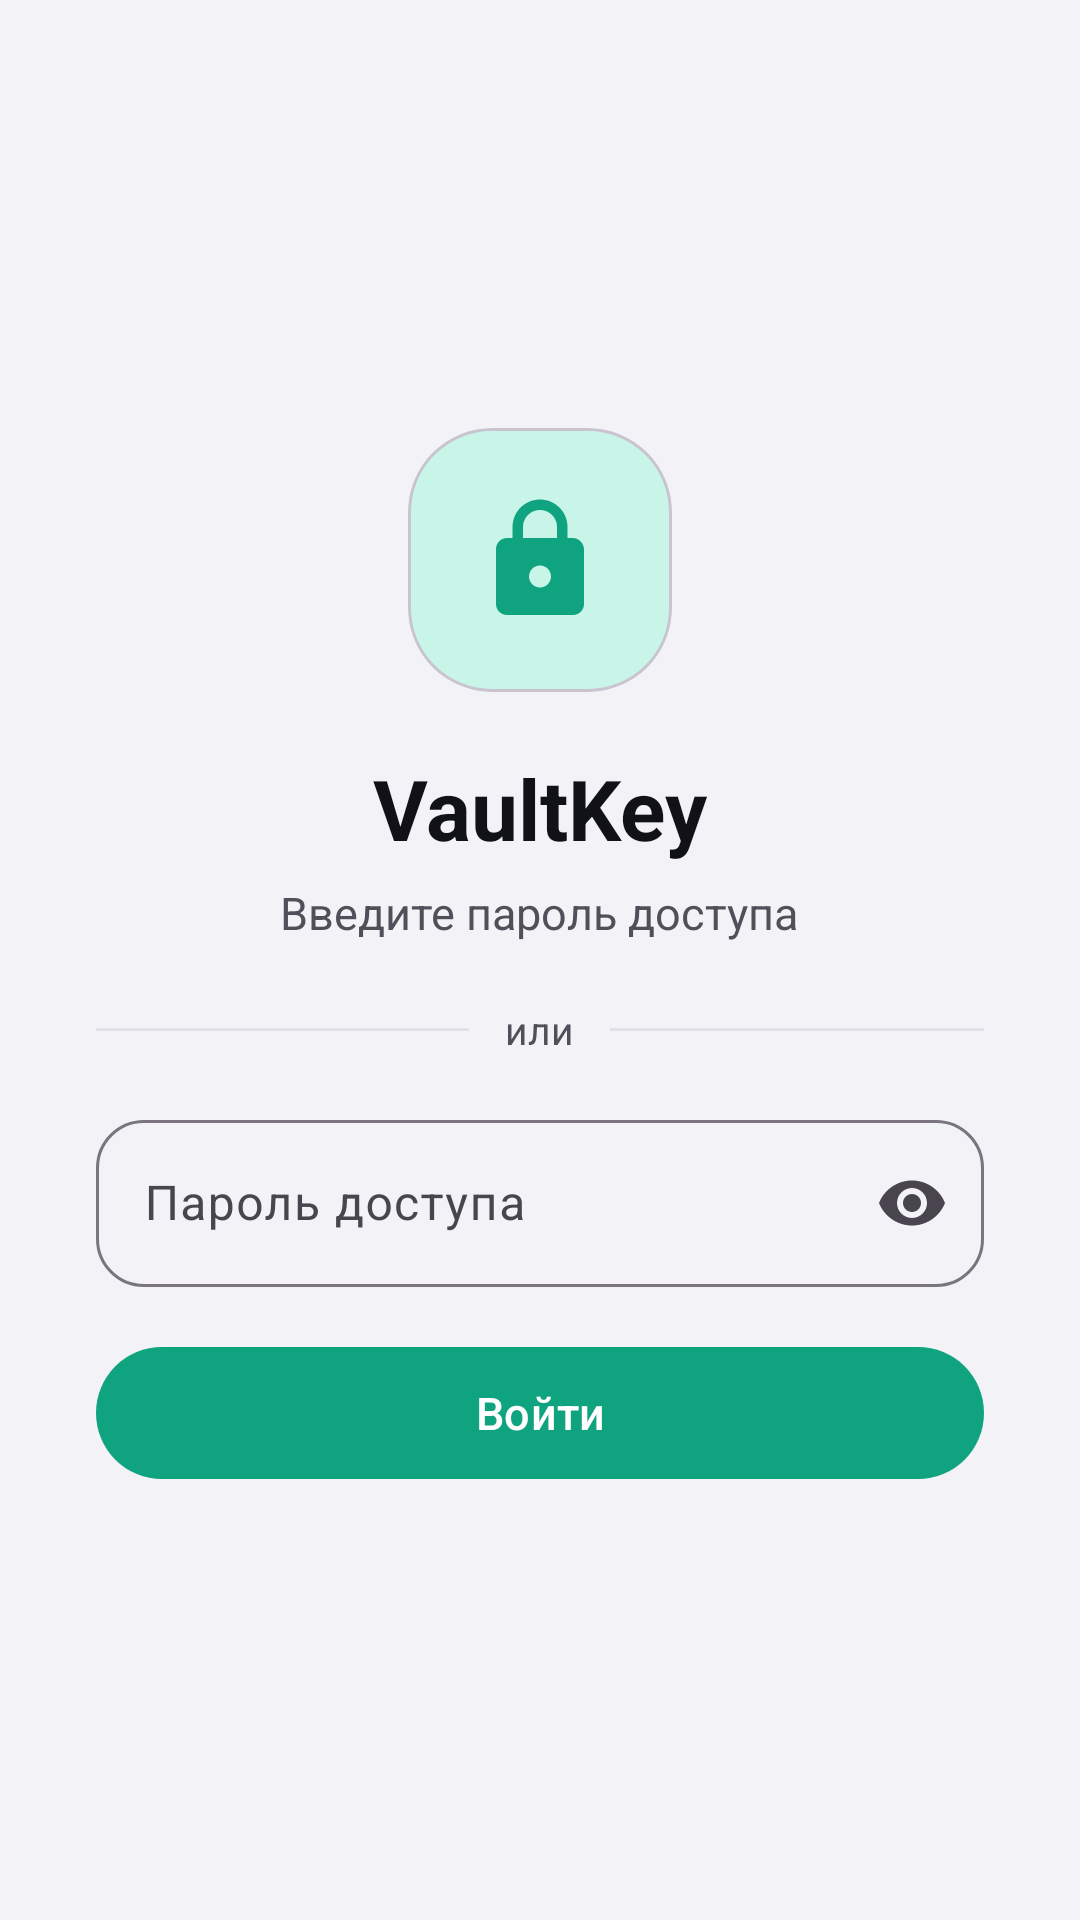

Where icons sit on this 1080px x 1920px app screen, as region(x1, y1, x2, y2):
lock: region(496, 499, 584, 615)
